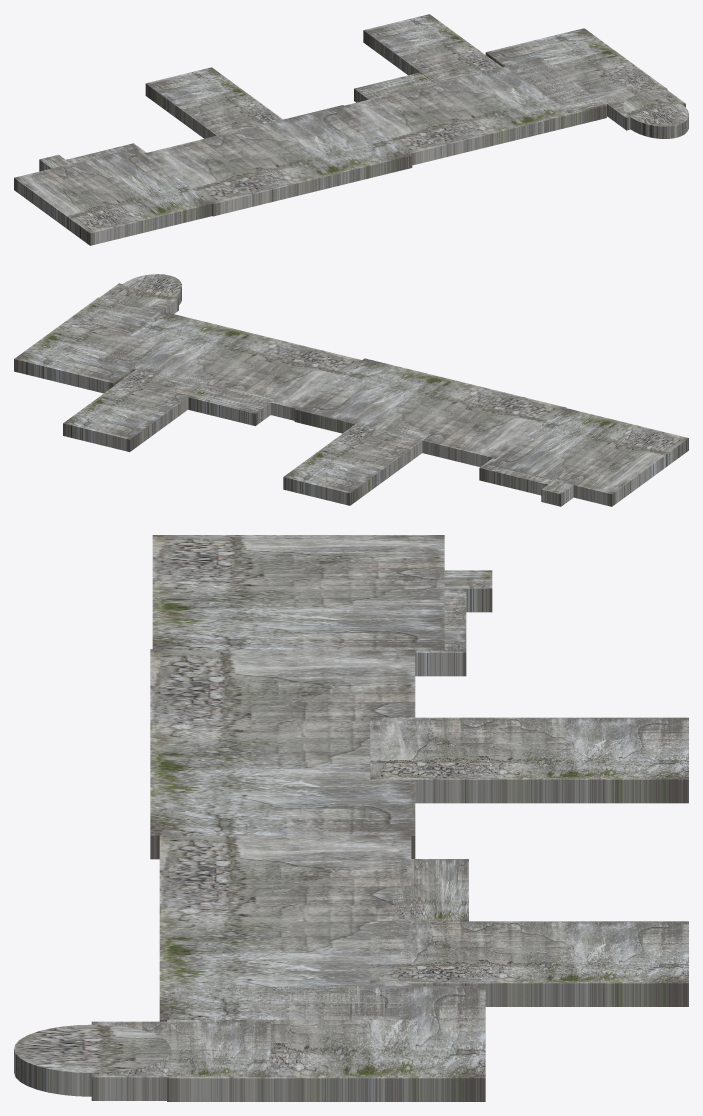
Rendered from _lender 1.fbx.
The picture shows the model from 3 angles, top to bottom: view 1: azimuth 30°, elevation 25°; view 2: azimuth 150°, elevation 25°; view 3: azimuth 270°, elevation 25°; orthographic projection. The views are drawn at different scales.
Parts seen in each view (by area): view 1: Plane.005; view 2: Plane.005; view 3: Plane.005.
Part boxes in pixels (x1,y1,x2,y2): Plane.005: (14, 14, 688, 245); Plane.005: (14, 274, 688, 506); Plane.005: (14, 535, 688, 1101).
Size of the model in its own units: 9842 by 209 by 5168.
1 material, 1 textured.
